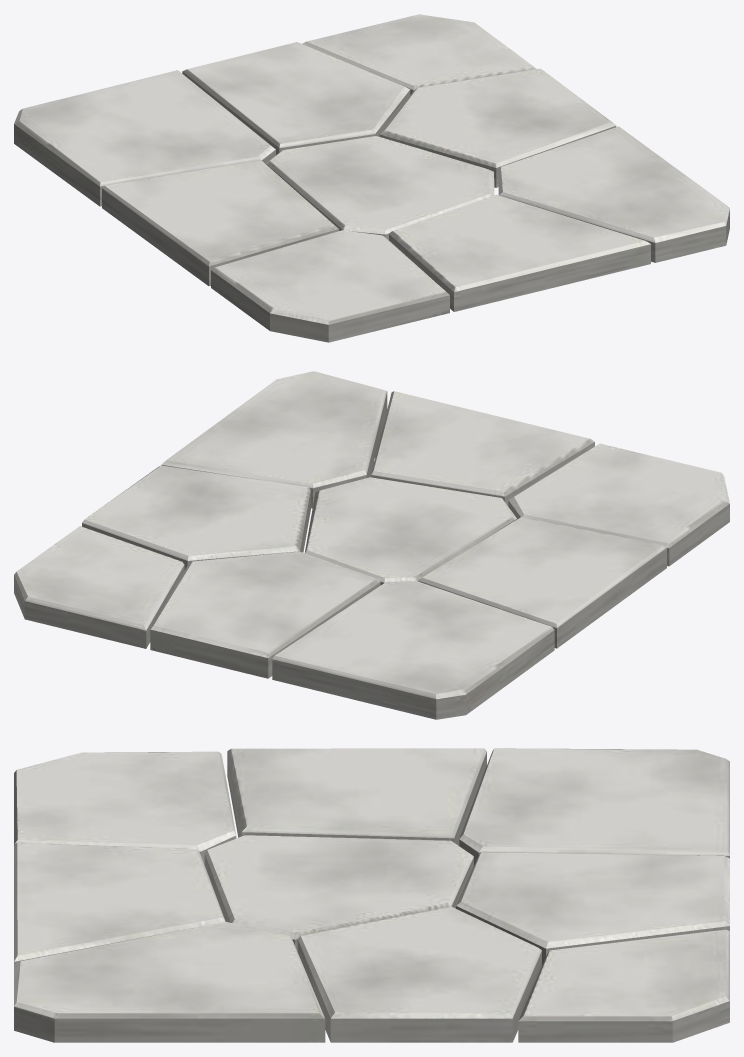
Rendered from BR17_cracked_floor_slab_v3.glb.
3 renders of one model, top to bottom at view 1: azimuth 30°, elevation 25°; view 2: azimuth 150°, elevation 25°; view 3: azimuth 270°, elevation 25°, orthographic. The views are drawn at different scales.
Parts seen in each view (by area): view 1: Fractured_slab_00; view 2: Fractured_slab_00; view 3: Fractured_slab_00.
Boxes of the visible parts, left/top/right/bottom form: Fractured_slab_00: left=14, top=14, right=729, bottom=342; Fractured_slab_00: left=14, top=371, right=729, bottom=719; Fractured_slab_00: left=14, top=748, right=729, bottom=1042.
Size of the model in its own units: 2.65 by 0.13 by 3.
Materials: 3 (3 with a texture image).
